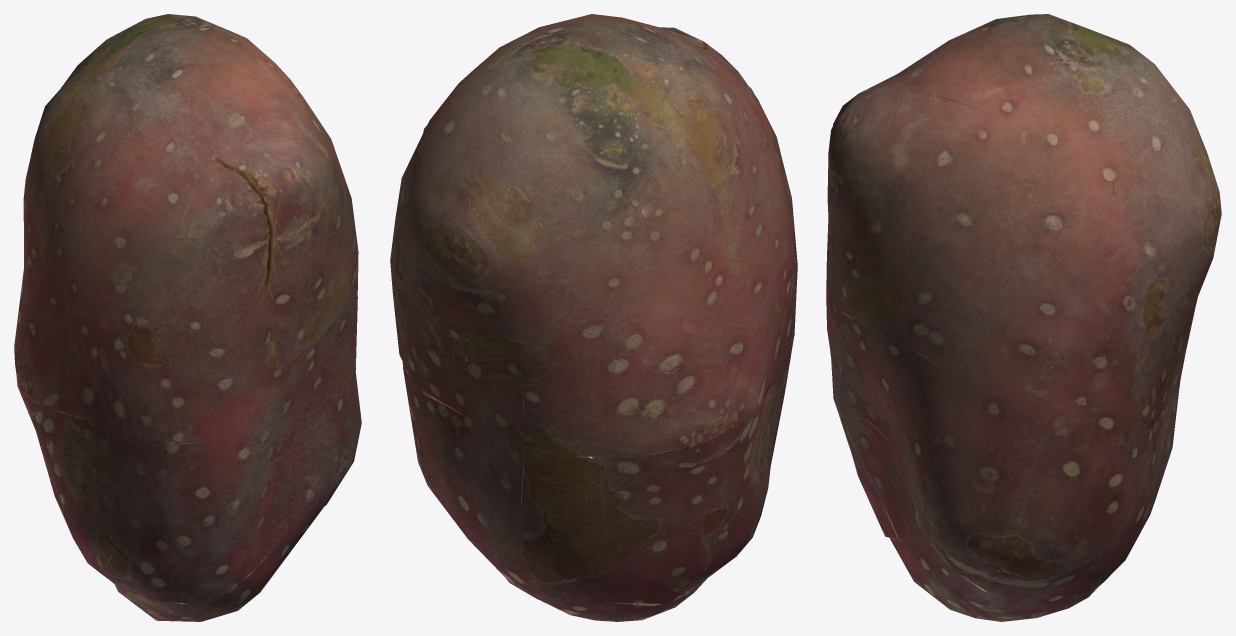
Rendered from tuber.glb.
The picture shows the model from 3 angles, left to right: view 1: azimuth 30°, elevation 25°; view 2: azimuth 150°, elevation 25°; view 3: azimuth 270°, elevation 25°; orthographic projection. The views are drawn at different scales.
Visible parts, largest first — view 1: sweet_potato; view 2: sweet_potato; view 3: sweet_potato.
Boxes of the visible parts, bbox=[...] form: sweet_potato: bbox=[14, 14, 361, 621]; sweet_potato: bbox=[390, 14, 797, 621]; sweet_potato: bbox=[826, 14, 1221, 621].
Size of the model in its own units: 0.1714 by 0.2959 by 0.1804.
Materials: 1 (1 with a texture image).
